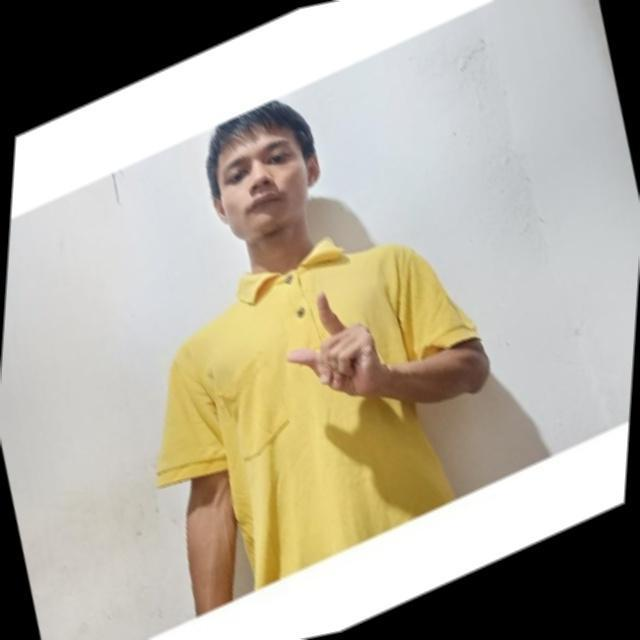R: (282, 288, 388, 410)
